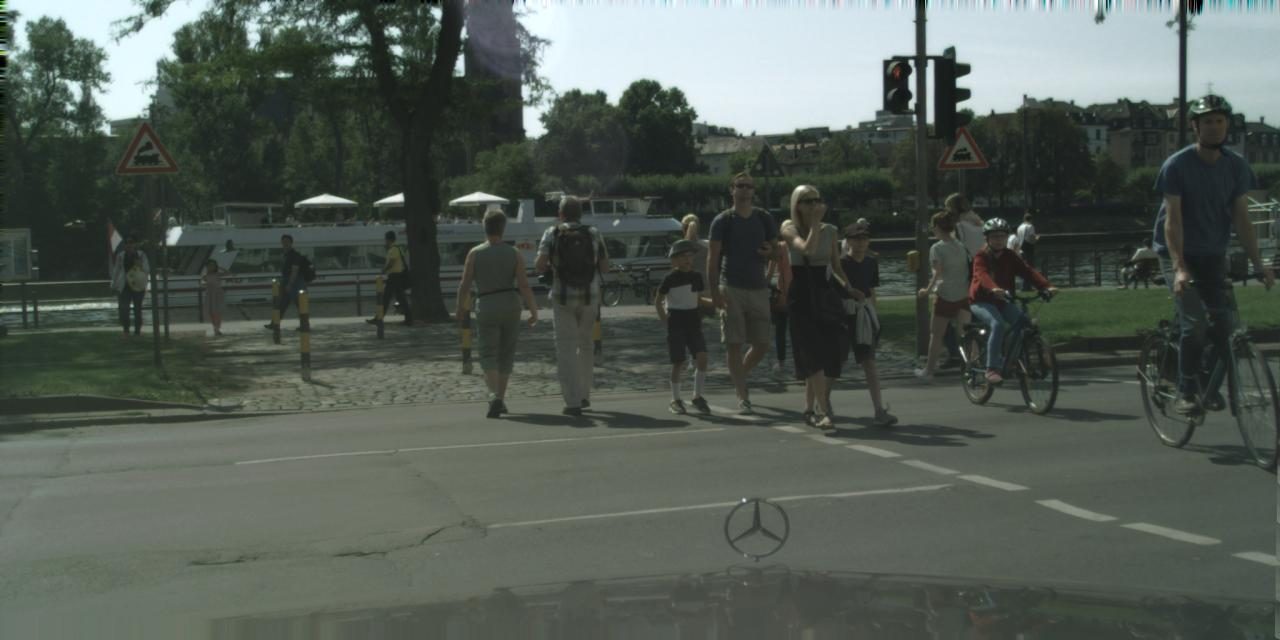ped: (1141, 92, 1271, 412), (762, 184, 861, 428), (697, 170, 796, 412), (532, 194, 620, 410), (454, 210, 538, 418), (816, 222, 898, 422), (928, 192, 1000, 368), (650, 239, 721, 414), (914, 213, 980, 376), (970, 216, 1034, 375), (660, 212, 724, 370), (758, 218, 820, 372), (109, 236, 152, 340), (267, 234, 305, 329), (372, 231, 409, 325), (844, 218, 876, 296), (1012, 212, 1044, 290), (198, 258, 229, 336), (999, 224, 1028, 292), (829, 227, 857, 294)
